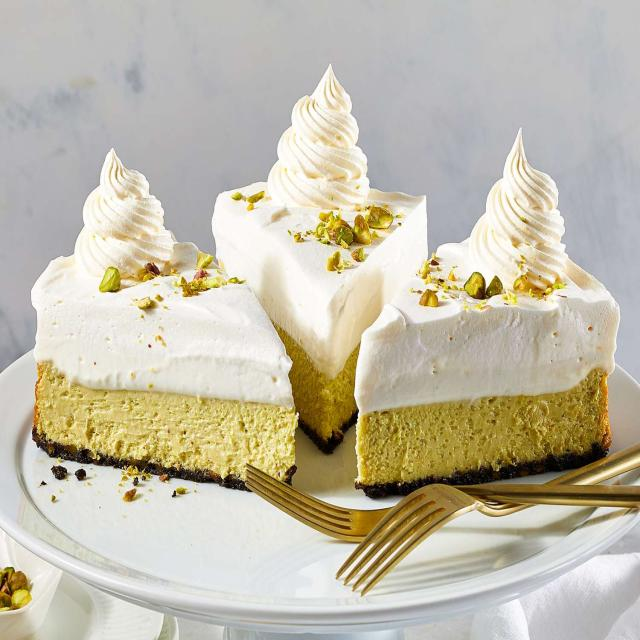Wet Waste: (22, 156, 305, 484), (373, 189, 592, 468), (233, 98, 413, 424)
